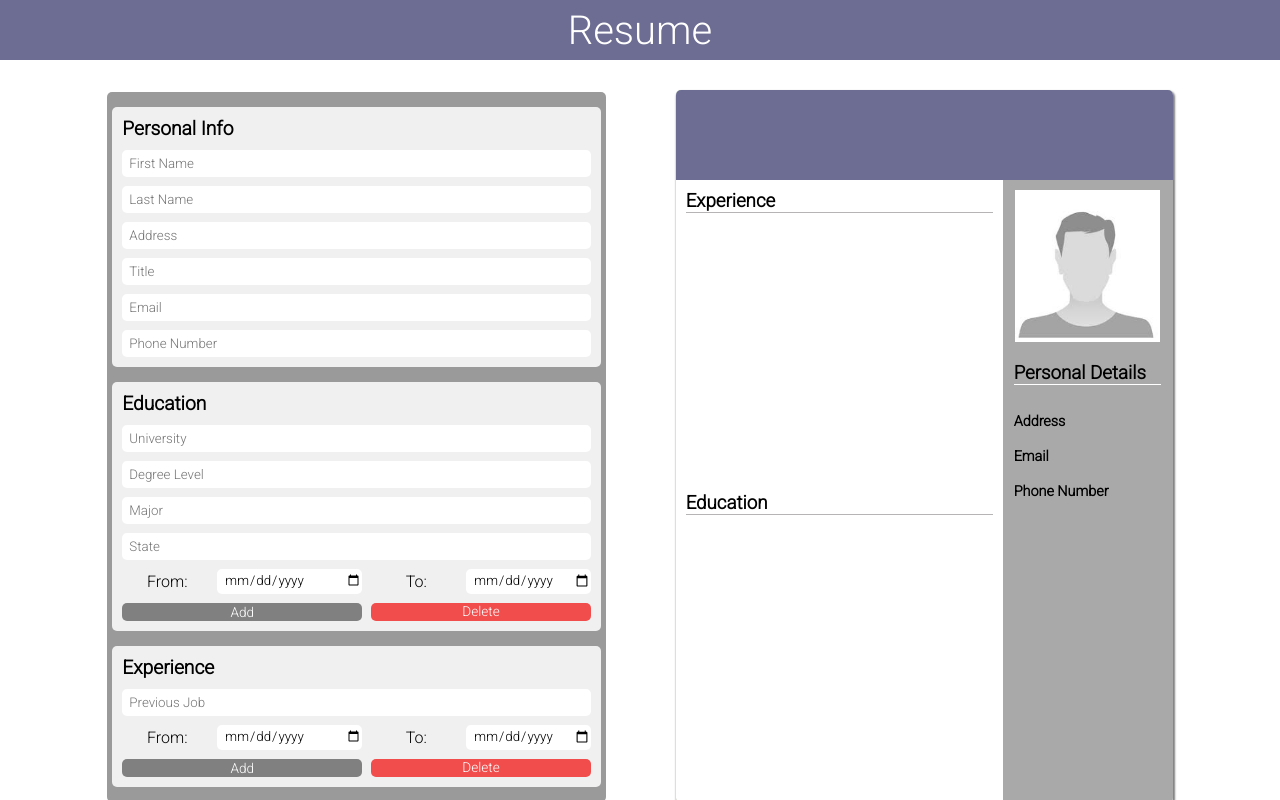
Test: Personal info section is taking input and rendering via state read › first name input entry typed into and rendered onto resume container
In the field with placeholder "First Name": (356, 163) [122,150,591,176], type "Kurtis"
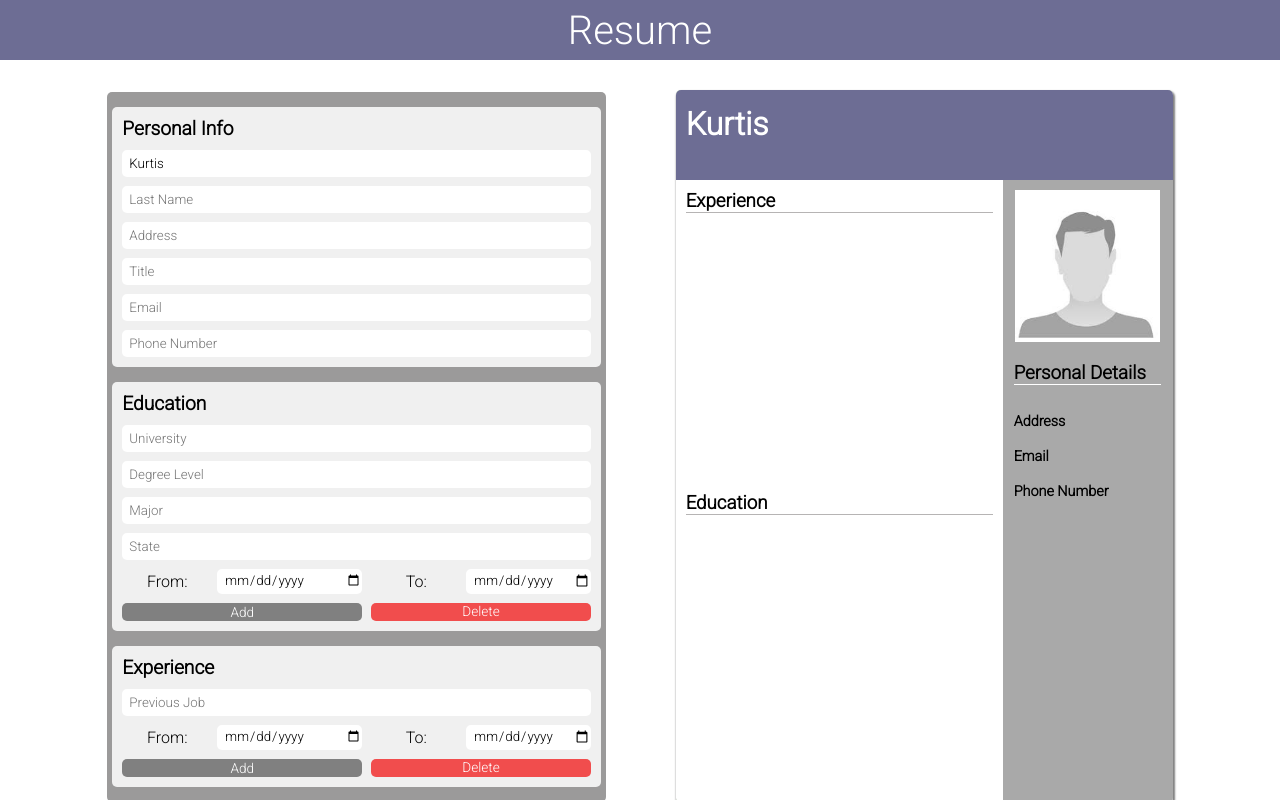
Expected: the heading "Kurtis" is shown, [686,105,768,143]
